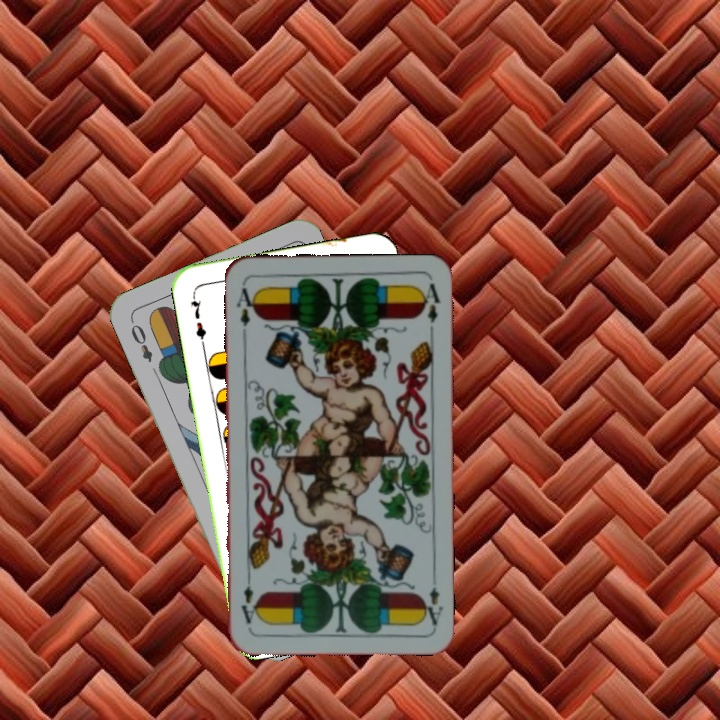E7: (187, 289, 209, 348)
EA: (418, 570, 445, 628), (233, 284, 259, 339)
EO: (126, 315, 155, 365)
